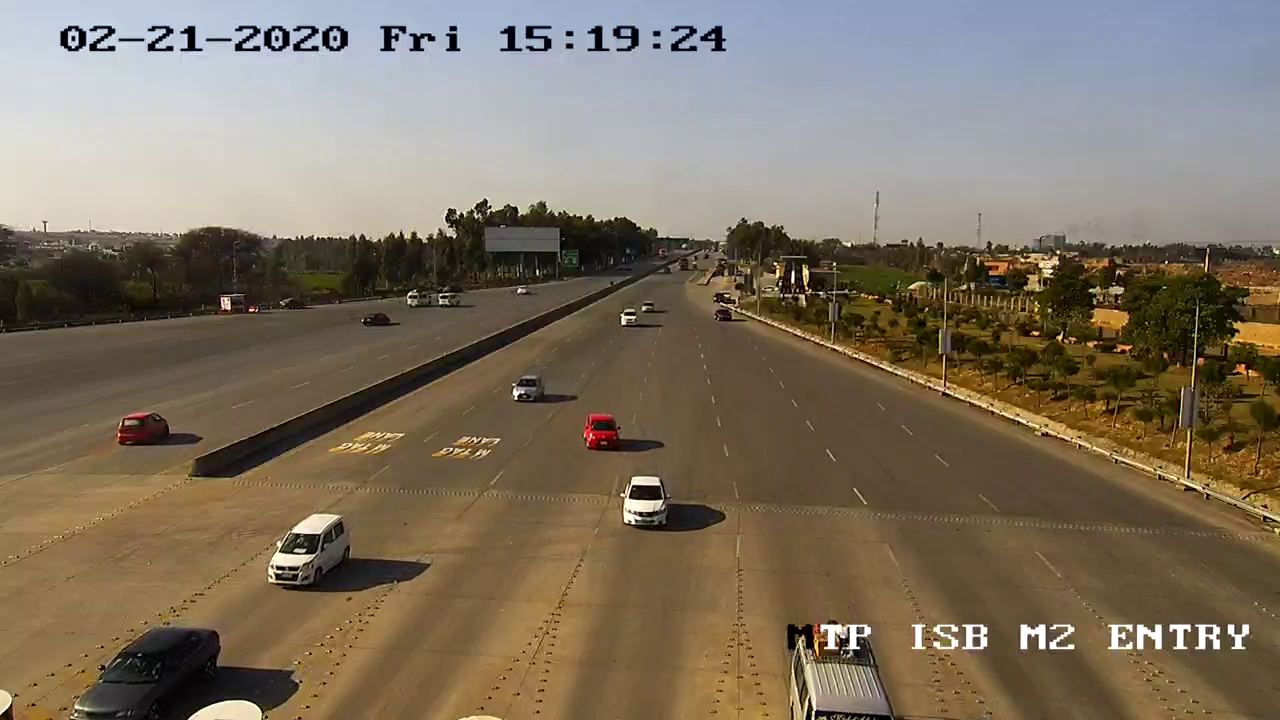f1: (261, 508, 362, 590), (618, 470, 678, 533), (579, 408, 627, 457), (508, 372, 550, 409)
